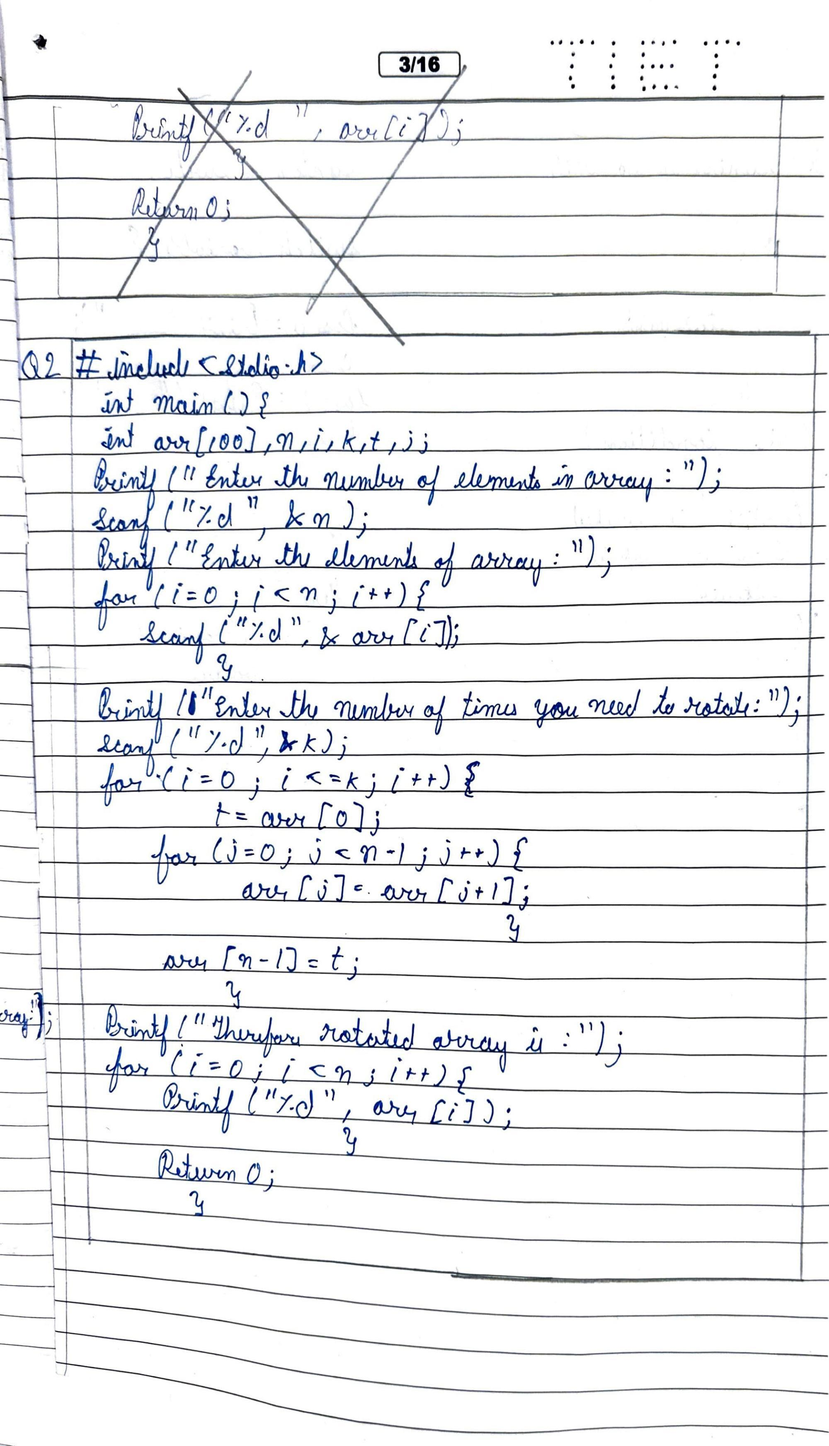cuttings: (114, 57, 474, 351), (186, 689, 199, 717)
